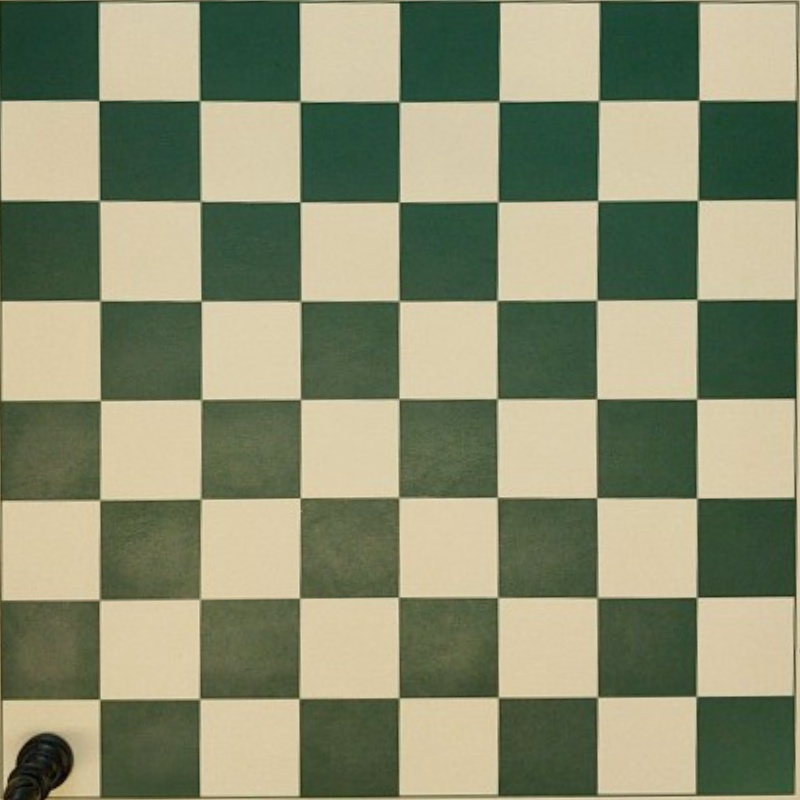black-bishop: (2, 732, 74, 800)
